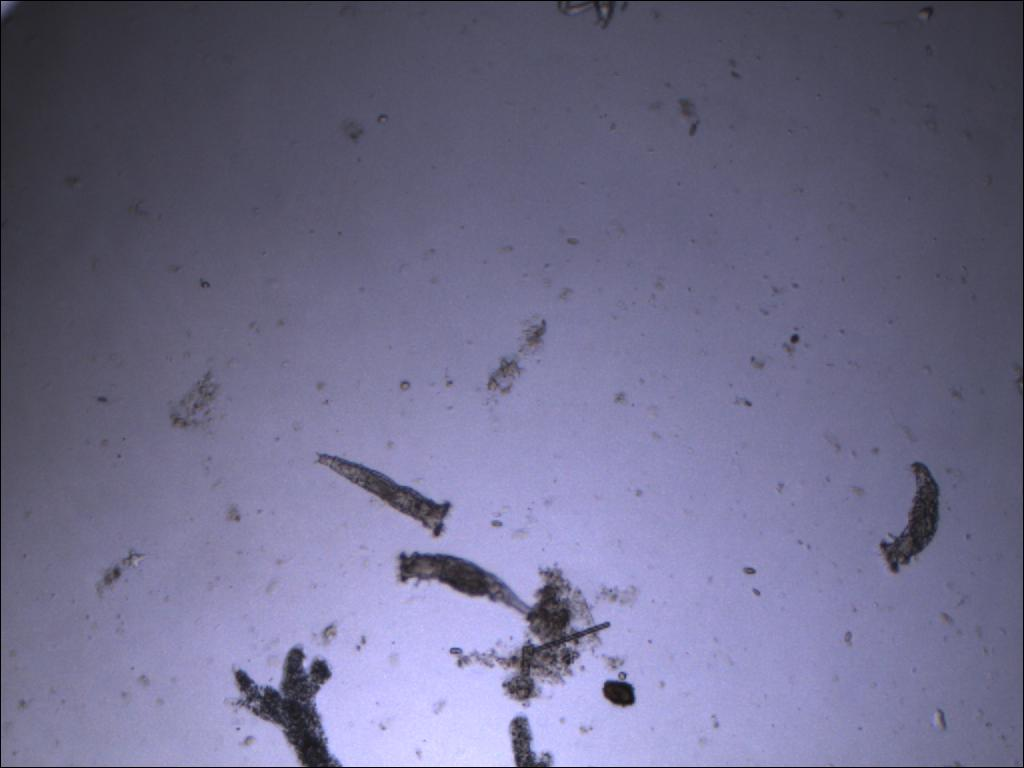amoeba: (219, 641, 353, 768)
